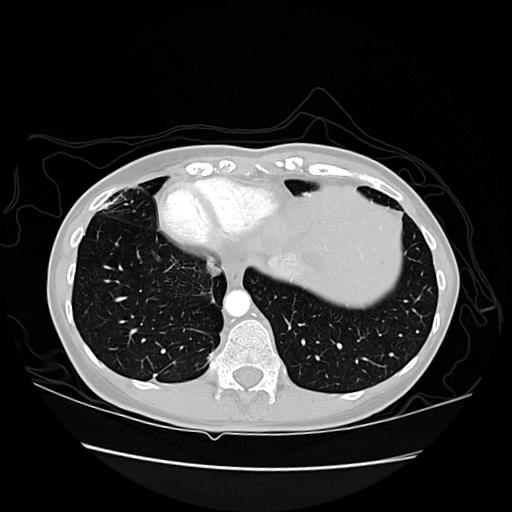nodule: (206, 258, 224, 276)
